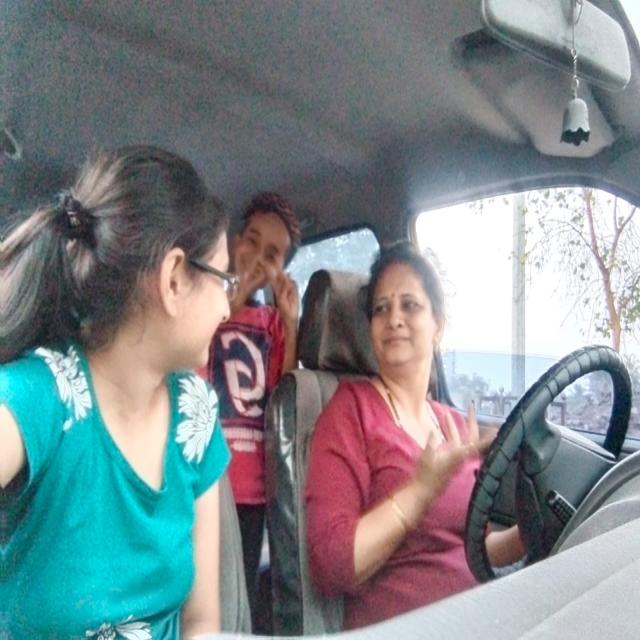LeftRight: (365, 245, 446, 378)
person: (98, 135, 240, 378), (245, 186, 304, 297)
